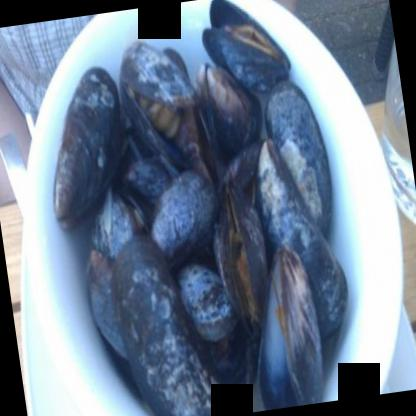mussel: (103, 226, 237, 415), (252, 140, 346, 324), (113, 26, 213, 197), (239, 241, 330, 409), (38, 72, 132, 223), (260, 61, 338, 242), (195, 0, 299, 106)
